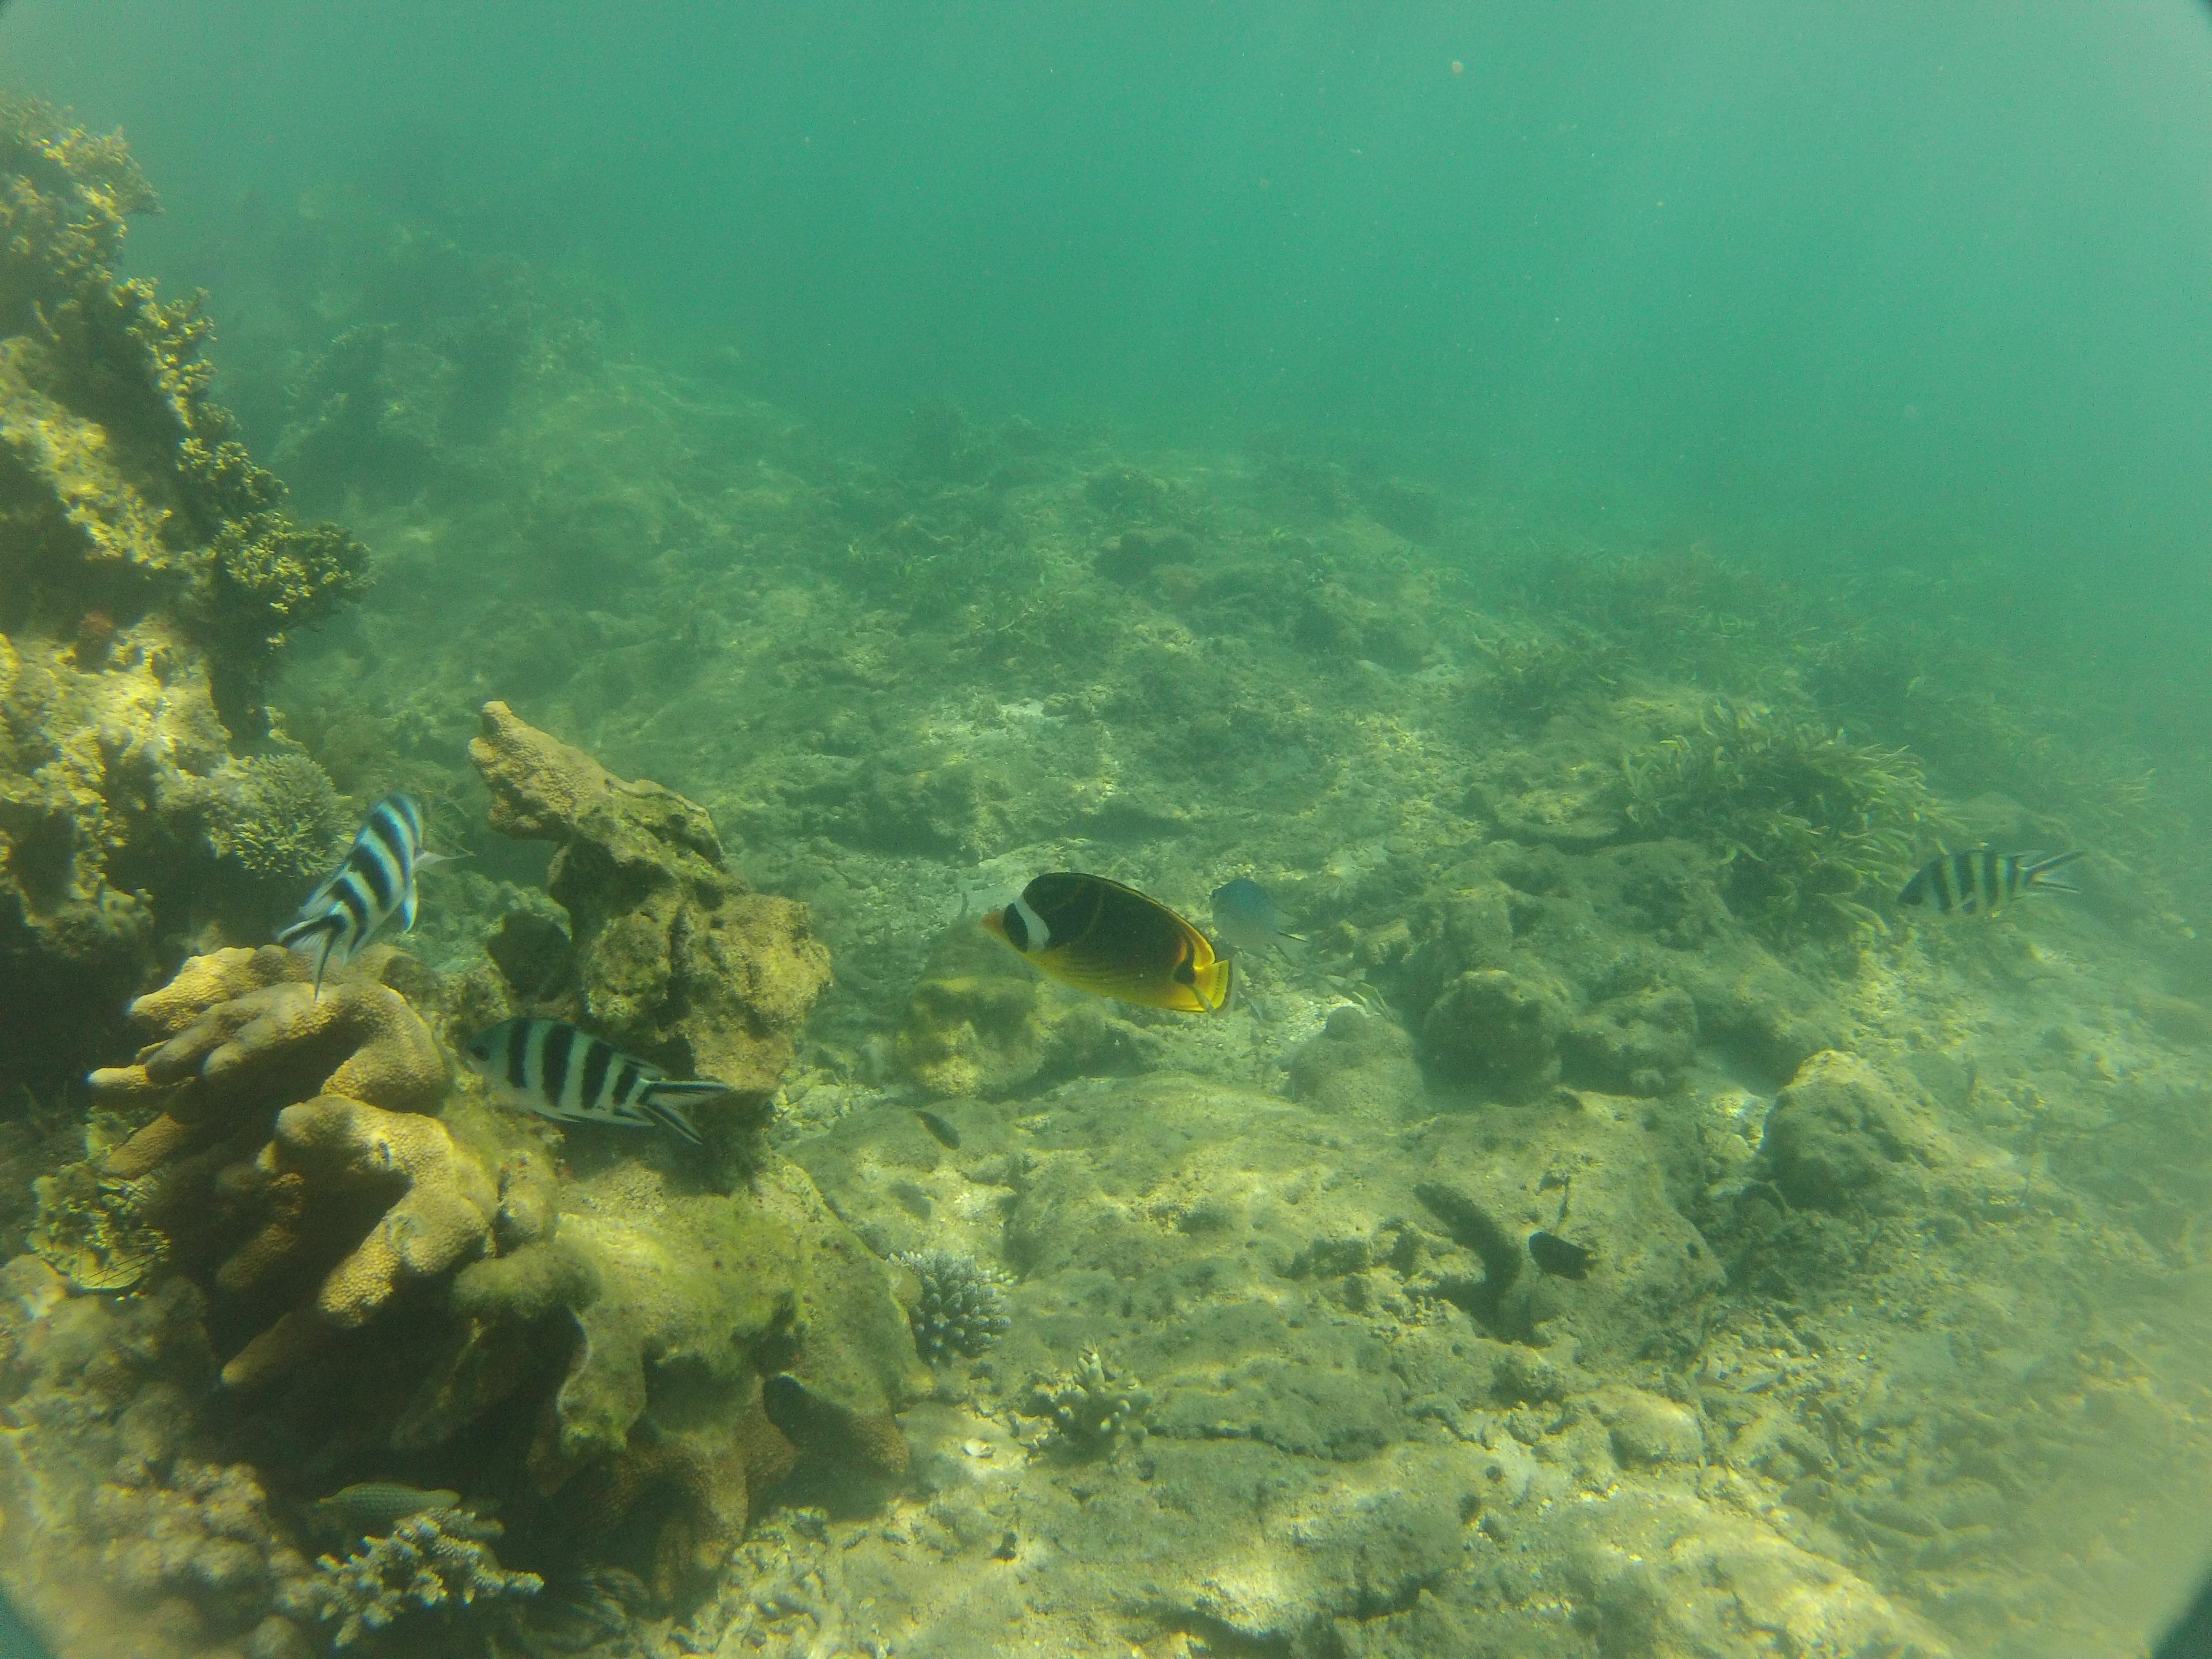Fish: (963, 856, 1254, 1063)
